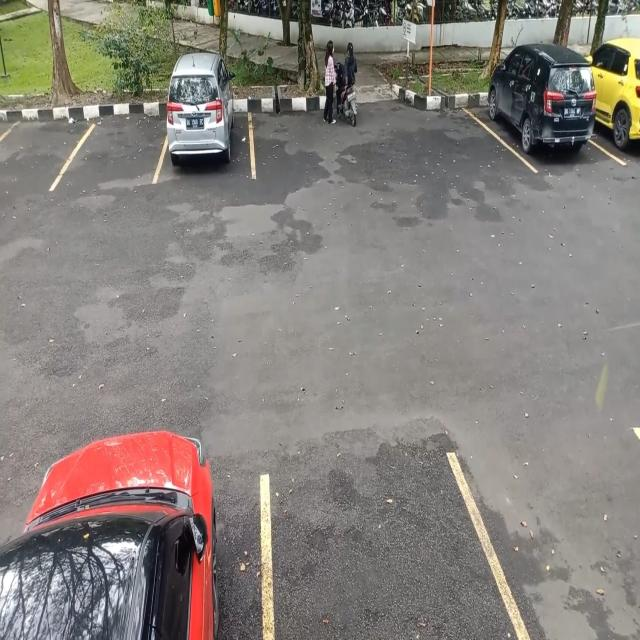empty: (262, 441, 508, 640), (72, 91, 162, 188), (0, 94, 71, 189)
occupied: (487, 55, 599, 171), (161, 70, 255, 176)
